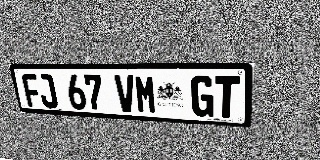6: (65, 74, 87, 110)
7: (83, 75, 105, 111)
F: (21, 74, 43, 107)
G: (191, 76, 214, 117)
J: (36, 74, 59, 108)
M: (134, 75, 157, 114)
T: (215, 76, 240, 118)
V: (114, 75, 137, 113)
